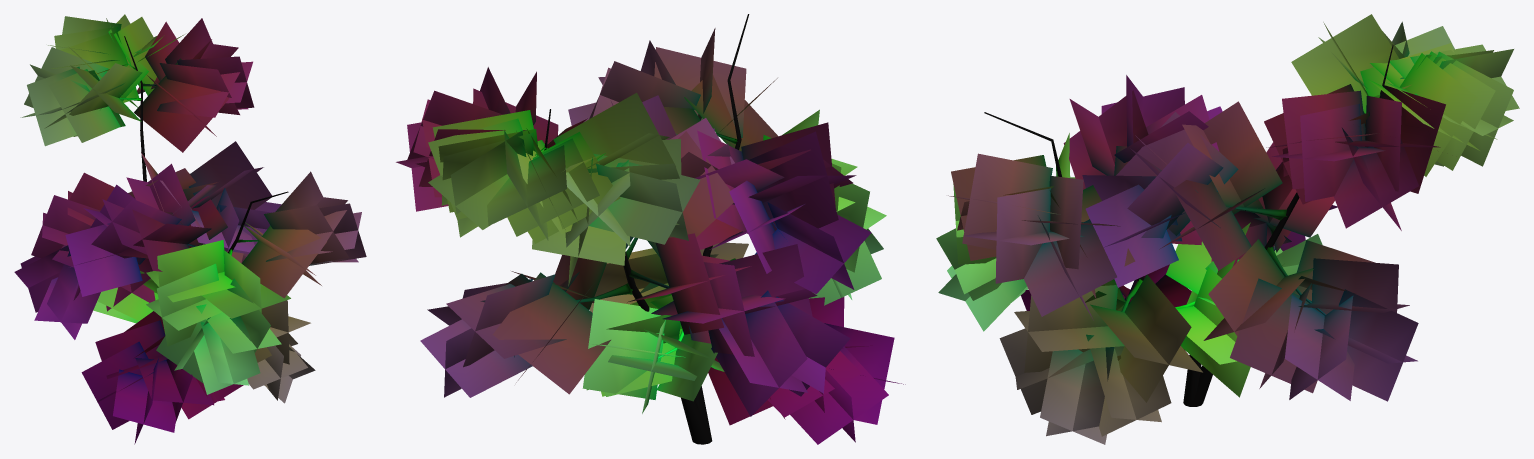
Rendered from URP_P14_Tree_9_LOD_2.fbx.
3 views of the same model, side by side, from view 1: azimuth 30°, elevation 25°; view 2: azimuth 150°, elevation 25°; view 3: azimuth 270°, elevation 25° (orthographic). The views are drawn at different scales.
Parts seen in each view (by area): view 1: Tree_9_LOD_2; view 2: Tree_9_LOD_2; view 3: Tree_9_LOD_2.
Part boxes in pixels (x1,y1,x2,y2): Tree_9_LOD_2: [14, 14, 366, 444]; Tree_9_LOD_2: [396, 14, 905, 444]; Tree_9_LOD_2: [936, 14, 1519, 444].
Bounding box in the file's own units: 414 × 439 × 596.
